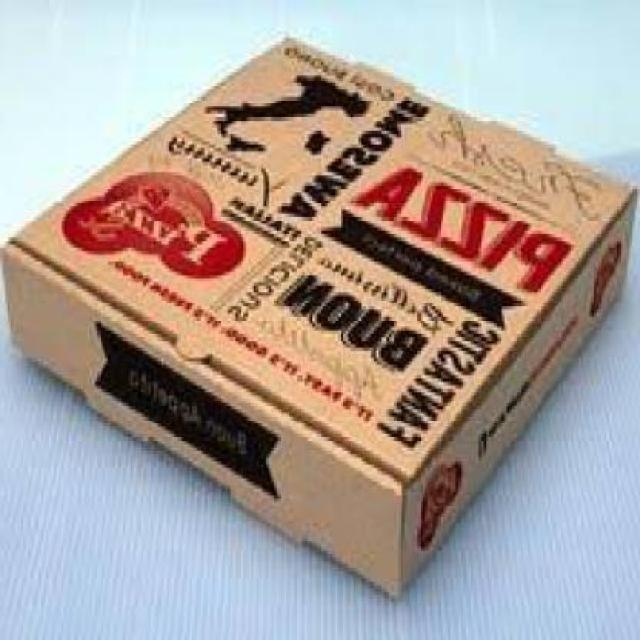CARDBOARD: (1, 31, 638, 602)
